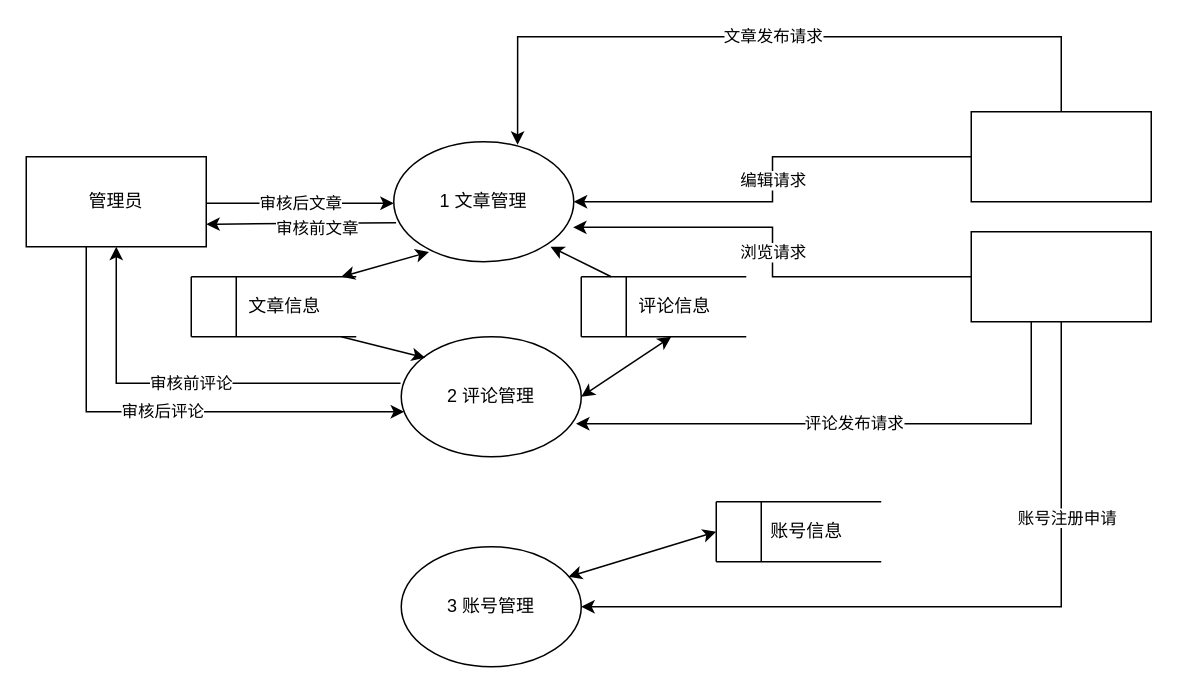
Image size: 1178x693. Some labels were removed from this diagram. Here are the shapes that lost their labels. From the top down, the centre of each, then its label:
At pixel 1060 156: "博主".
At pixel 1060 276: "用户".
